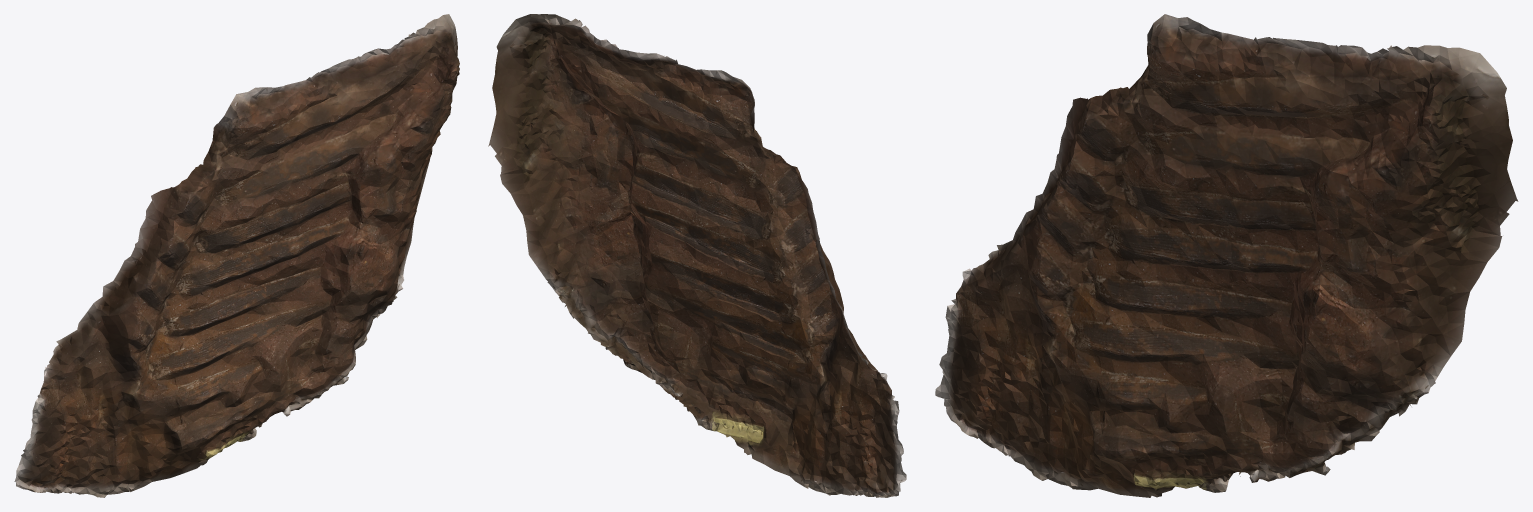
The model's file is coal_measures_fossil_plant.dae.
The picture shows the model from 3 angles, left to right: view 1: azimuth 30°, elevation 25°; view 2: azimuth 150°, elevation 25°; view 3: azimuth 330°, elevation 25°; orthographic projection. The views are drawn at different scales.
Visible parts, largest first — view 1: node; view 2: node; view 3: node.
Boxes of the visible parts, left/top/right/bottom form: node: left=14, top=14, right=459, bottom=497; node: left=488, top=14, right=906, bottom=497; node: left=935, top=14, right=1518, bottom=497.
Size of the model in its own units: 3.74 by 3.4 by 0.6145.
1 material, 1 textured.
